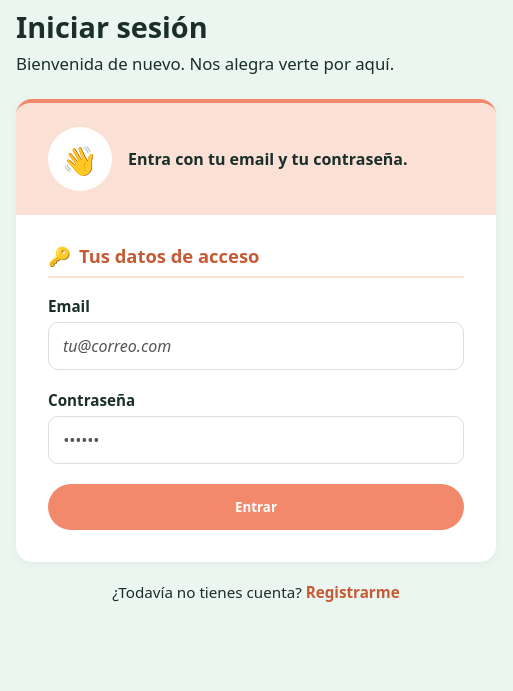
Scenario: LoginView › si no hay conexión con el servidor, lo dice
The image size is (513, 691).
Type "ana@test.com" into the field with id "email". click: (256, 346)
box: [48,322,464,370]
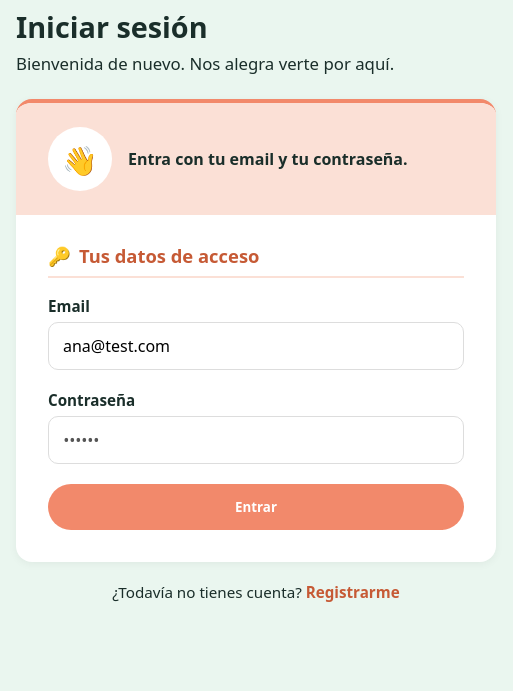
Type "12345678" into the password field labelled "Contraseña". click: (256, 440)
box: [48,416,464,464]
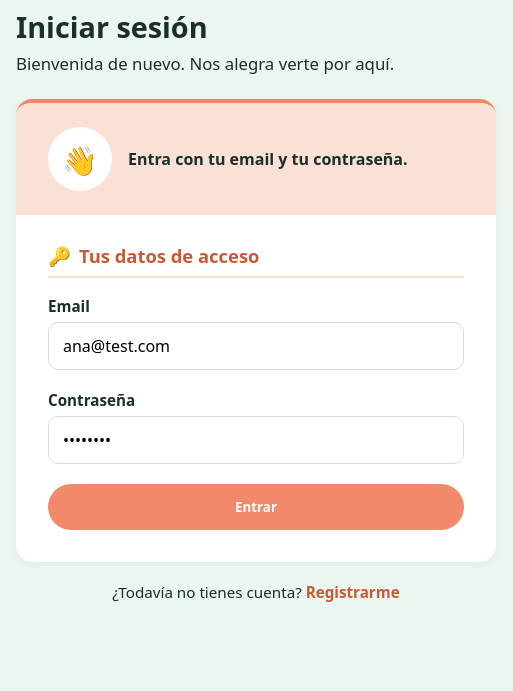
Submit the form, box [16,215,496,562]
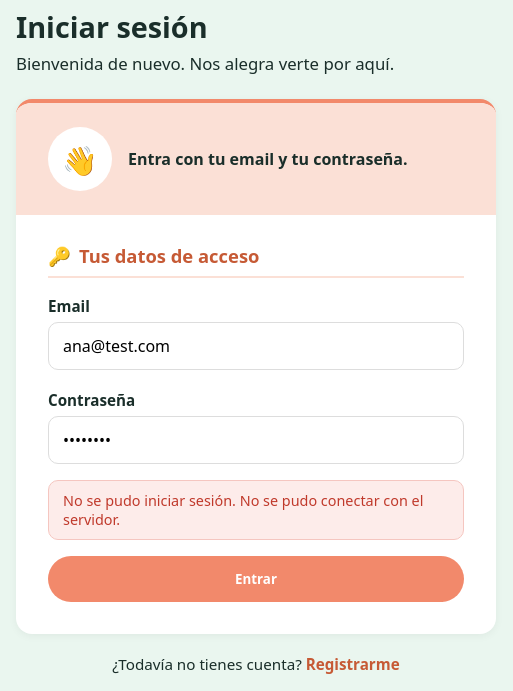
Result: the text "No se pudo iniciar sesión. No se pudo conectar con el servidor." is shown at [48,480,464,540]
